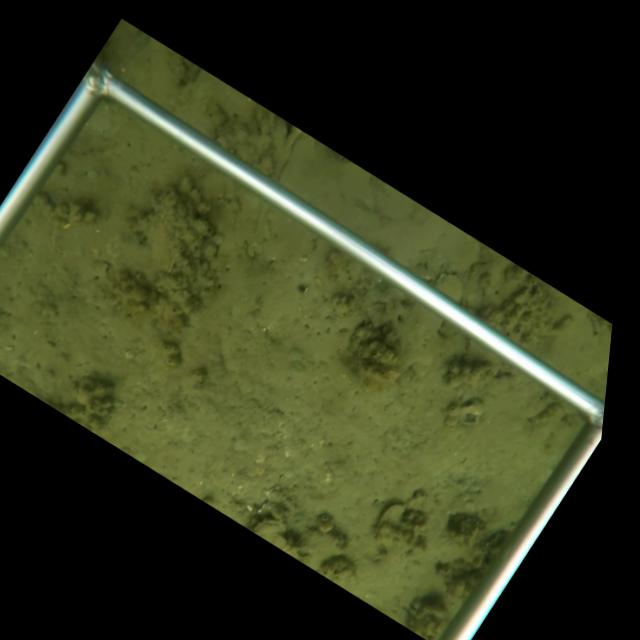Oyster-Closed: (249, 515, 287, 534)
Oyster-Indeterminate: (376, 500, 408, 531)
Oyster-Open: (273, 116, 298, 151)
